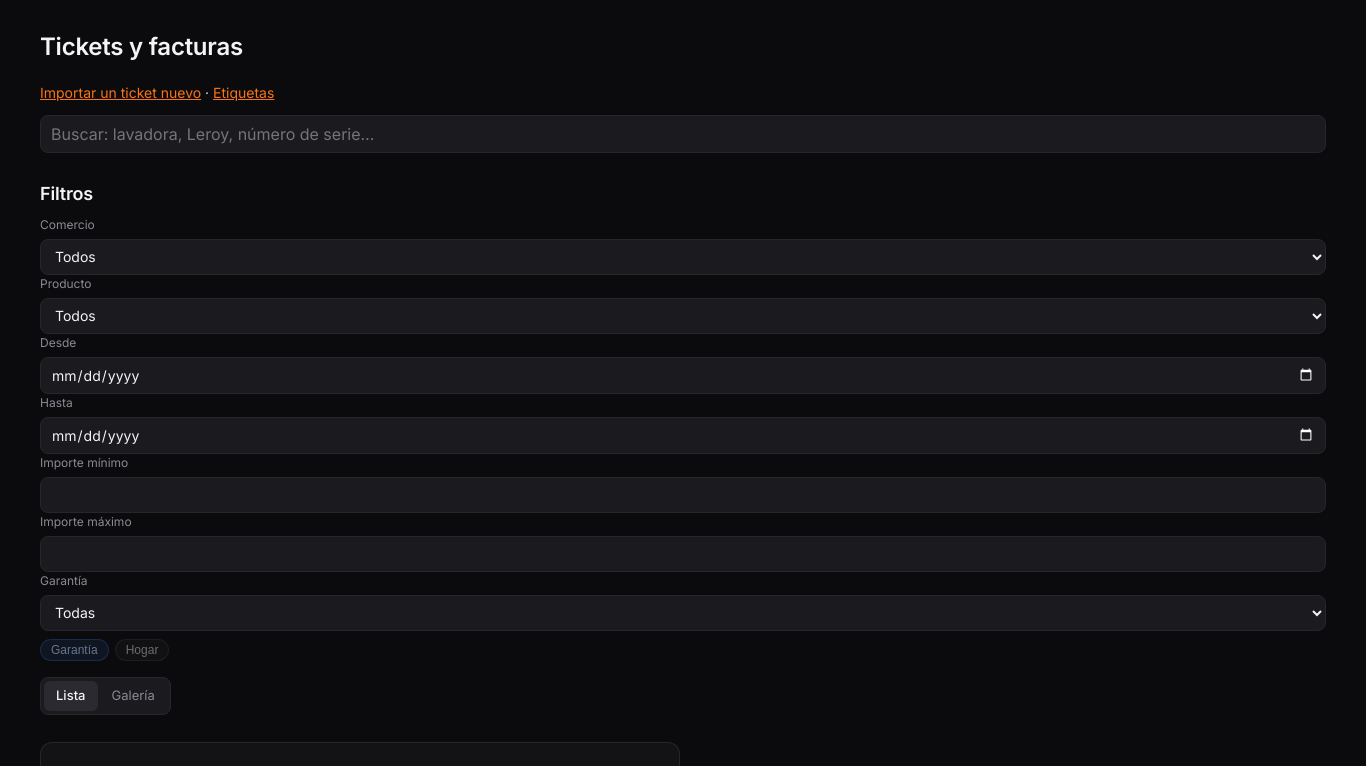
ReceiptsPage › spec 040, H1: filtros › "Limpiar filtros" vuelve a listar sin ningún filtro
Select "Mercadona" in the dropdown labelled "Comercio". click: (683, 256)
box: [40, 238, 1326, 274]
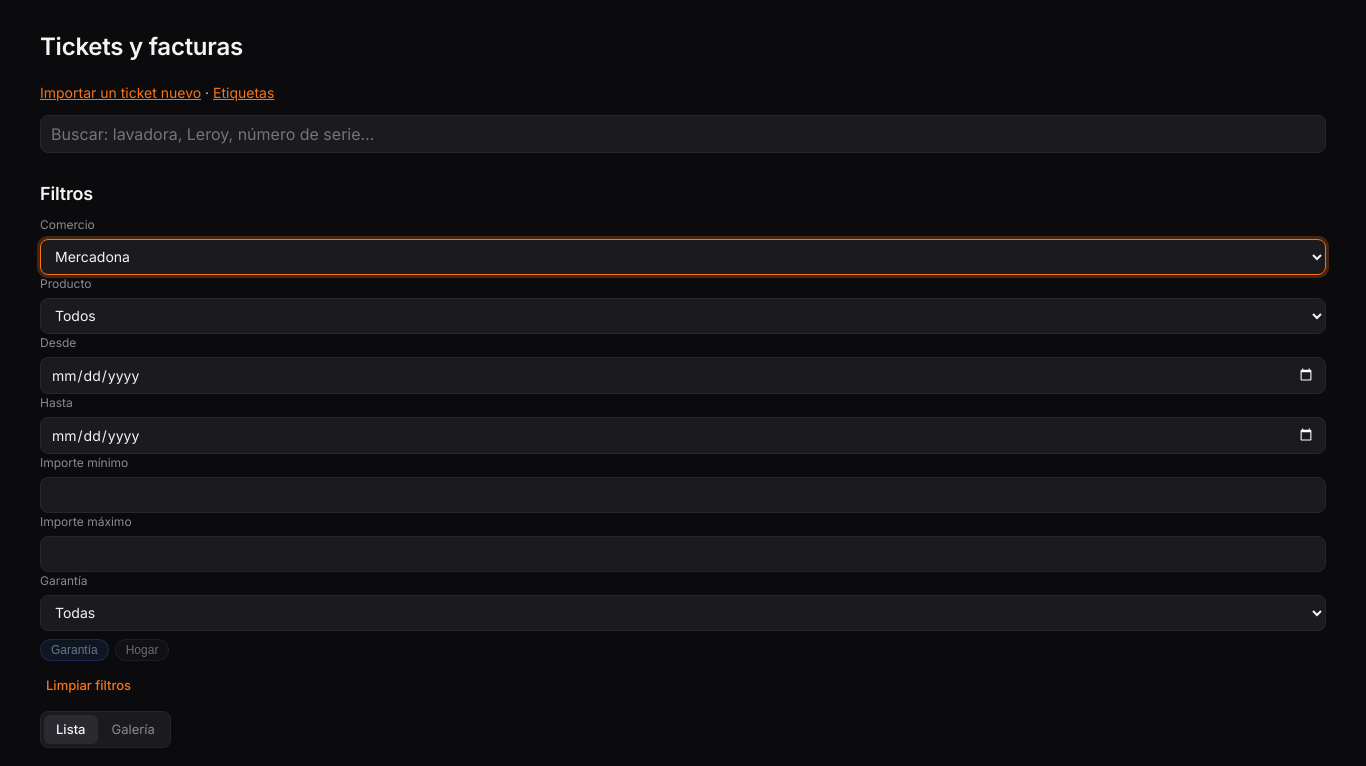
Expected: the button "Limpiar filtros" is shown
Click the button "Limpiar filtros". click: (89, 686)
box: [40, 669, 137, 703]
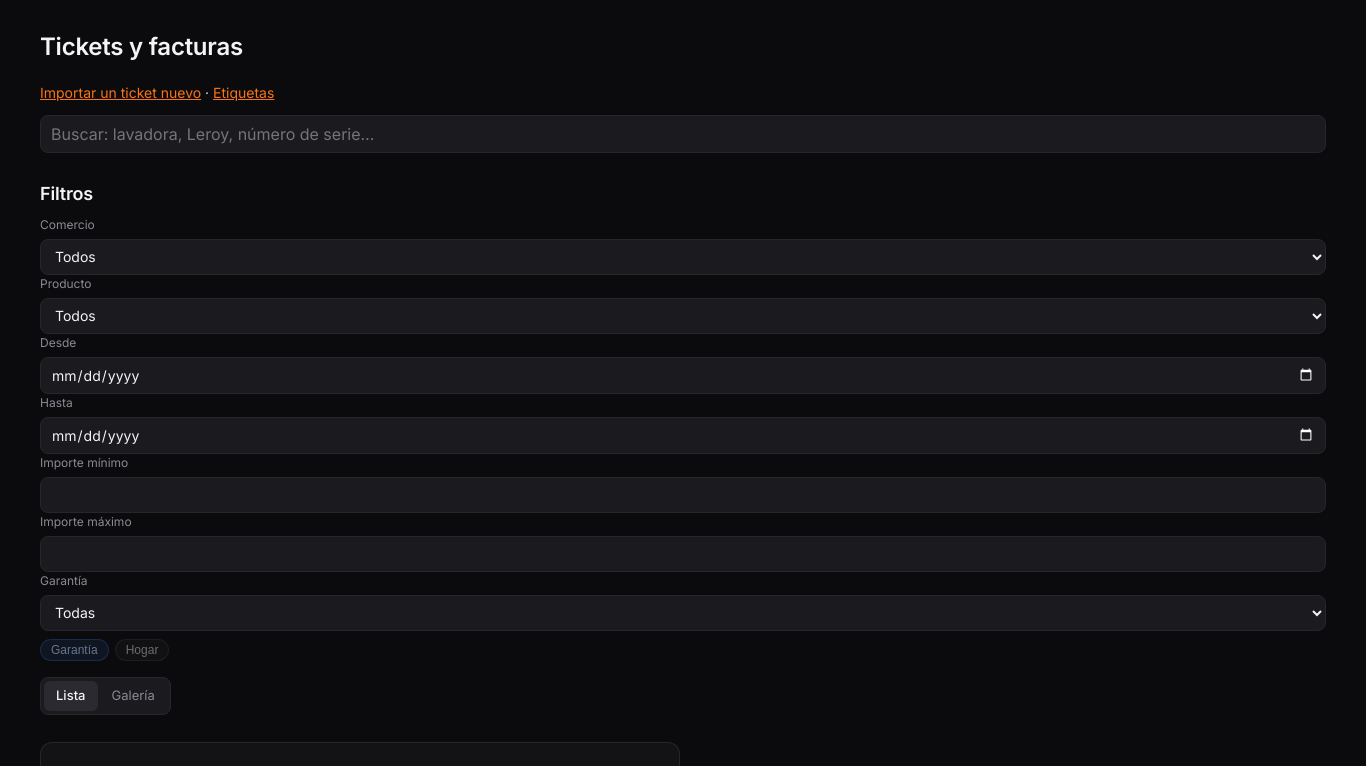
Expected: the button "Limpiar filtros" is gone
